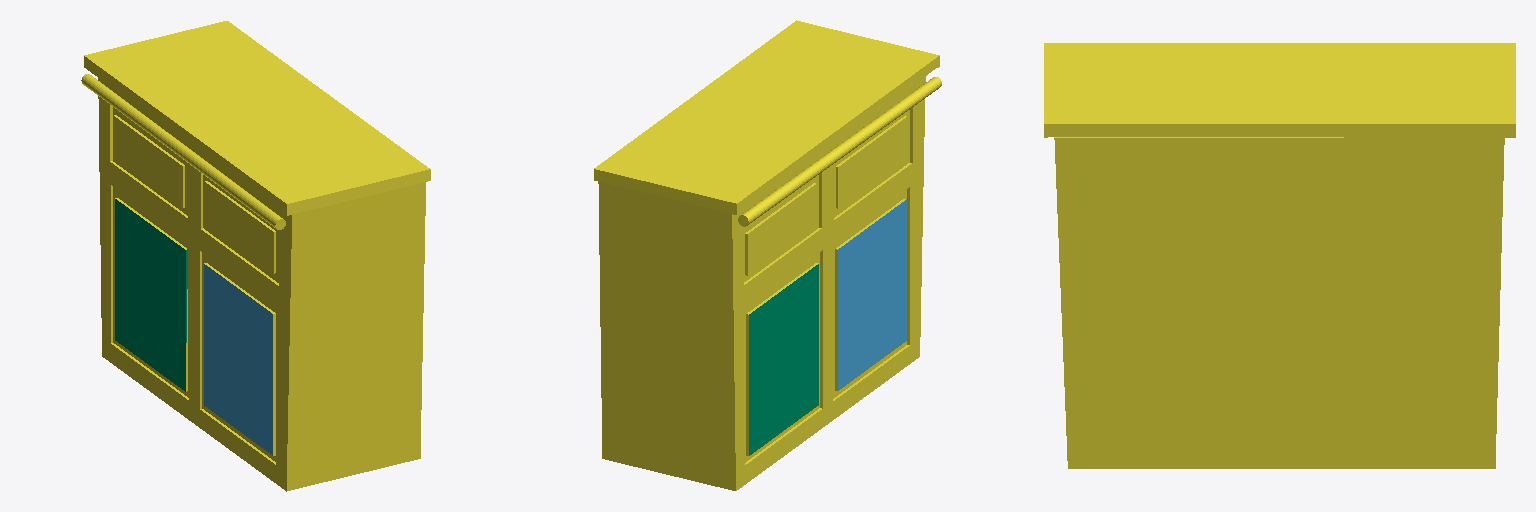
The robot description file, URDF, robot "partnet_20765ccd89f9d915d200faae04ce3f8":
<?xml version='1.0' encoding='utf-8'?>
<robot name="partnet_20765ccd89f9d915d200faae04ce3f8">
	<link name="base" />
	<link name="link_0">
		<visual name="cabinet_door_surface-23">
			<origin xyz="-0.5939464903038043 0.5791219999999997 -0.26658616326263207" />
			<geometry>
				<mesh filename="textured_objs/new-3.obj" />
			</geometry>
		</visual>
		<collision>
			<origin xyz="-0.5939464903038043 0.5791219999999997 -0.26658616326263207" />
			<geometry>
				<mesh filename="textured_objs/new-3.obj" />
			</geometry>
		</collision>
	</link>
	<joint name="joint_0" type="revolute">
		<origin xyz="0.5939464903038043 -0.5791219999999997 0.26658616326263207" />
		<axis xyz="0 1 0" />
		<child link="link_0" />
		<parent link="link_2" />
		<limit lower="0.0" upper="1.5707963267948966" />
	</joint>
	<link name="link_1">
		<visual name="cabinet_door_surface-22">
			<origin xyz="0.6044735705872705 0.5790019999999996 -0.26339684785049644" />
			<geometry>
				<mesh filename="textured_objs/new-2.obj" />
			</geometry>
		</visual>
		<collision>
			<origin xyz="0.6044735705872705 0.5790019999999996 -0.26339684785049644" />
			<geometry>
				<mesh filename="textured_objs/new-2.obj" />
			</geometry>
		</collision>
	</link>
	<joint name="joint_1" type="revolute">
		<origin xyz="-0.6044735705872705 -0.5790019999999996 0.26339684785049644" />
		<axis xyz="0 -1 0" />
		<child link="link_1" />
		<parent link="link_2" />
		<limit lower="-0.0" upper="1.5707963267948966" />
	</joint>
	<link name="link_2">
		<visual name="board-29">
			<origin xyz="0 0 0" />
			<geometry>
				<mesh filename="textured_objs/new-4.obj" />
			</geometry>
		</visual>
		<visual name="drawer_front-27">
			<origin xyz="0 0 0" />
			<geometry>
				<mesh filename="textured_objs/new-1.obj" />
			</geometry>
		</visual>
		<visual name="drawer_front-25">
			<origin xyz="0 0 0" />
			<geometry>
				<mesh filename="textured_objs/new-0.obj" />
			</geometry>
		</visual>
		<visual name="back_panel-16">
			<origin xyz="0 0 0" />
			<geometry>
				<mesh filename="textured_objs/new-5.obj" />
			</geometry>
		</visual>
		<visual name="vertical_side_panel-17">
			<origin xyz="0 0 0" />
			<geometry>
				<mesh filename="textured_objs/new-7.obj" />
			</geometry>
		</visual>
		<visual name="vertical_side_panel-18">
			<origin xyz="0 0 0" />
			<geometry>
				<mesh filename="textured_objs/new-6.obj" />
			</geometry>
		</visual>
		<visual name="vertical_front_panel-19">
			<origin xyz="0 0 0" />
			<geometry>
				<mesh filename="textured_objs/new-9.obj" />
			</geometry>
		</visual>
		<visual name="bottom_panel-20">
			<origin xyz="0 0 0" />
			<geometry>
				<mesh filename="textured_objs/new-8.obj" />
			</geometry>
		</visual>
		<visual name="tabletop_connector-21">
			<origin xyz="0 0 0" />
			<geometry>
				<mesh filename="textured_objs/original-2.obj" />
			</geometry>
		</visual>
		<collision>
			<origin xyz="0 0 0" />
			<geometry>
				<mesh filename="textured_objs/new-4.obj" />
			</geometry>
		</collision>
		<collision>
			<origin xyz="0 0 0" />
			<geometry>
				<mesh filename="textured_objs/new-1.obj" />
			</geometry>
		</collision>
		<collision>
			<origin xyz="0 0 0" />
			<geometry>
				<mesh filename="textured_objs/new-0.obj" />
			</geometry>
		</collision>
		<collision>
			<origin xyz="0 0 0" />
			<geometry>
				<mesh filename="textured_objs/new-5.obj" />
			</geometry>
		</collision>
		<collision>
			<origin xyz="0 0 0" />
			<geometry>
				<mesh filename="textured_objs/new-7.obj" />
			</geometry>
		</collision>
		<collision>
			<origin xyz="0 0 0" />
			<geometry>
				<mesh filename="textured_objs/new-6.obj" />
			</geometry>
		</collision>
		<collision>
			<origin xyz="0 0 0" />
			<geometry>
				<mesh filename="textured_objs/new-9.obj" />
			</geometry>
		</collision>
		<collision>
			<origin xyz="0 0 0" />
			<geometry>
				<mesh filename="textured_objs/new-8.obj" />
			</geometry>
		</collision>
		<collision>
			<origin xyz="0 0 0" />
			<geometry>
				<mesh filename="textured_objs/original-2.obj" />
			</geometry>
		</collision>
	</link>
	<joint name="joint_2" type="fixed">
		<origin rpy="1.570796326794897 0 -1.570796326794897" xyz="0 0 0" />
		<child link="link_2" />
		<parent link="base" />
	</joint>
</robot>

--- Facts derived from the render (not from the file) ---
Views: 3 orthographic renders of the robot side by side, from view 1: azimuth 30°, elevation 25°; view 2: azimuth 150°, elevation 25°; view 3: azimuth 270°, elevation 25°.
Robot: partnet_20765ccd89f9d915d200faae04ce3f8 — 4 links, 3 joints (2 revolute, 1 fixed); root link base; default pose: every joint at zero.
Links seen in each view (by area): view 1: link_2, link_1, link_0; view 2: link_2, link_1, link_0; view 3: link_2.
Link boxes in pixels (x1,y1,x2,y2): link_2: (81, 21, 430, 491); link_1: (115, 199, 187, 391); link_0: (204, 264, 272, 455); link_2: (594, 20, 941, 490); link_1: (749, 264, 818, 455); link_0: (838, 199, 906, 390); link_2: (1044, 43, 1515, 468).
Size in the robot's own frame: 0.6637 by 1.55 by 1.25 metres.
Meshes: 11 distinct files referenced, 11 mesh visuals loaded (11 OBJ).